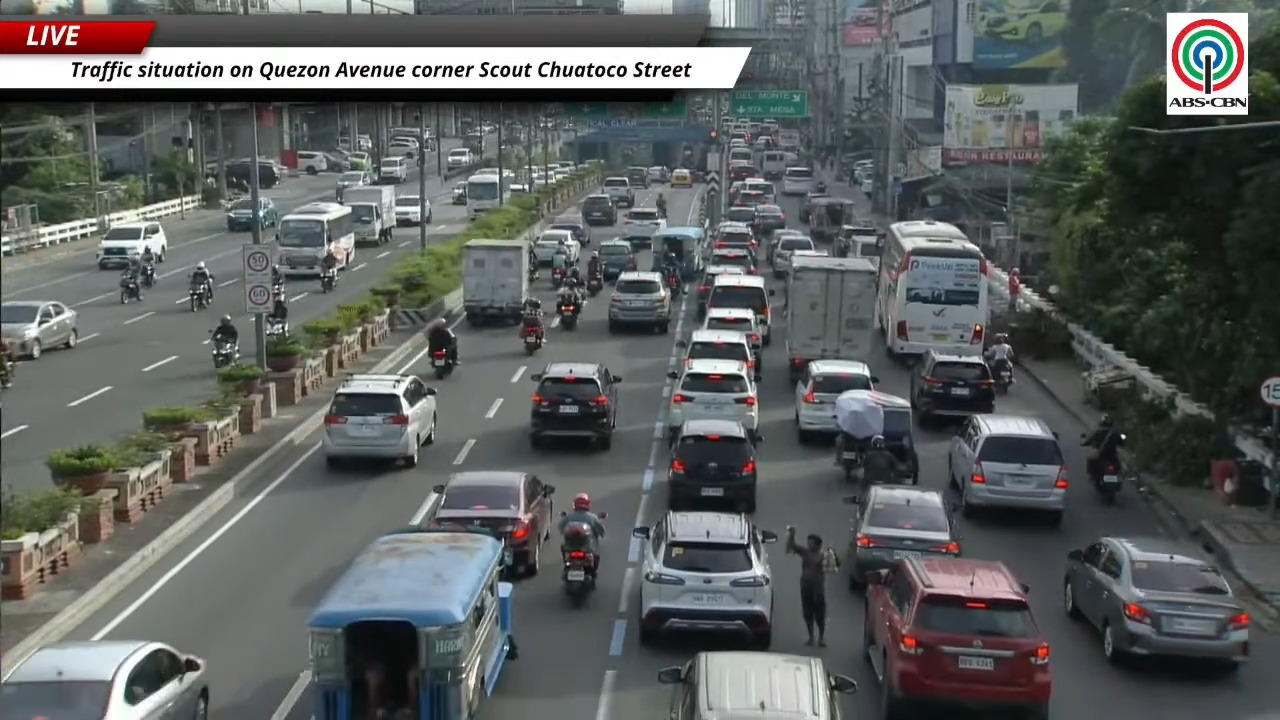bus: (877, 221, 988, 355), (275, 202, 355, 276), (466, 171, 508, 220)
car: (863, 557, 1051, 719), (1063, 537, 1249, 668), (632, 511, 777, 649), (0, 641, 209, 719), (658, 651, 856, 719), (948, 414, 1068, 523), (430, 471, 554, 576), (844, 485, 961, 590), (321, 374, 436, 467), (668, 419, 757, 512), (529, 362, 621, 449), (666, 360, 758, 443), (794, 358, 878, 443), (847, 390, 919, 484), (909, 350, 995, 425), (708, 273, 774, 345), (0, 300, 78, 359), (677, 330, 760, 380), (977, 0, 1067, 46), (607, 271, 671, 333), (701, 307, 762, 370), (96, 221, 167, 268), (696, 265, 744, 317), (619, 207, 666, 247), (771, 235, 815, 277), (226, 197, 279, 231), (712, 222, 757, 259), (534, 229, 580, 265), (597, 240, 637, 280), (765, 228, 807, 264), (709, 246, 757, 274), (549, 215, 590, 245), (394, 194, 432, 225), (752, 203, 785, 237), (335, 170, 370, 201), (602, 176, 634, 207), (799, 191, 829, 222), (743, 178, 776, 203), (296, 150, 329, 174), (710, 220, 749, 239), (735, 187, 767, 210), (724, 204, 754, 225), (625, 166, 650, 188), (346, 151, 371, 172), (729, 163, 759, 180), (670, 169, 693, 187), (727, 181, 744, 203), (451, 181, 466, 205), (648, 166, 669, 183)
motorcycle: (561, 523, 596, 606), (1089, 457, 1122, 503), (839, 434, 864, 481), (1095, 462, 1121, 503), (211, 341, 239, 368), (520, 324, 543, 355), (991, 360, 1012, 393), (557, 299, 579, 330), (119, 276, 142, 303), (431, 350, 453, 378), (0, 348, 15, 388), (189, 281, 209, 311), (664, 271, 683, 297), (265, 317, 288, 336), (320, 268, 337, 292), (586, 275, 604, 297), (141, 264, 156, 288), (551, 268, 564, 288), (527, 265, 538, 283), (657, 204, 666, 218)
truck: (785, 255, 875, 383), (462, 239, 528, 325), (342, 185, 395, 245), (778, 130, 801, 151)
